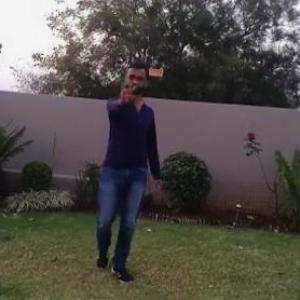takeoff-hand: (108, 69, 139, 108)
